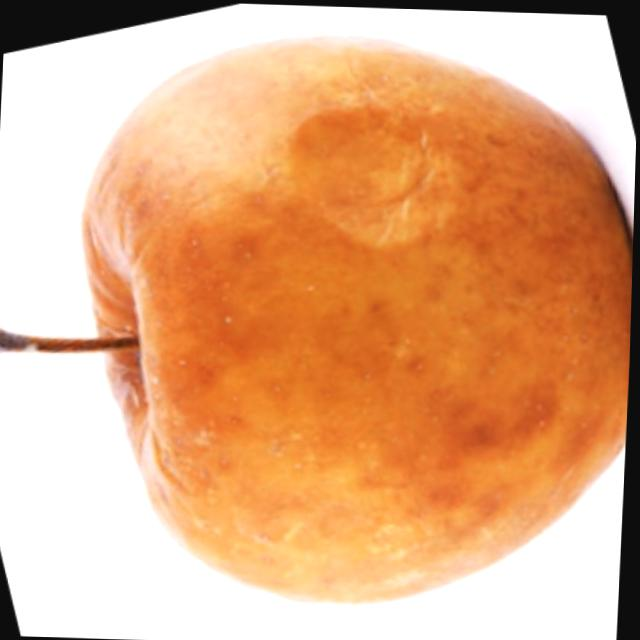organik: (46, 1, 640, 640)
